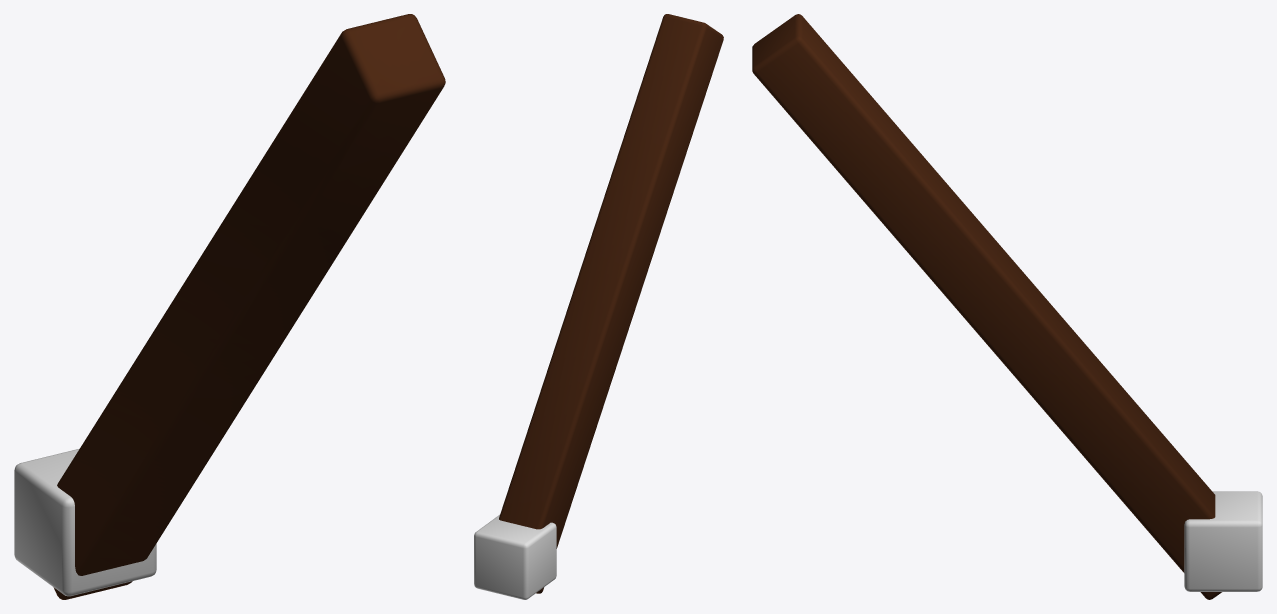
The model's file is roof-corner-beam.obj.
3 views of the same model, side by side, from view 1: azimuth 30°, elevation 25°; view 2: azimuth 150°, elevation 25°; view 3: azimuth 270°, elevation 25° (orthographic). The views are drawn at different scales.
Visible parts, largest first — view 1: roof-corner-beam; view 2: roof-corner-beam; view 3: roof-corner-beam.
Boxes of the visible parts, left/top/right/bottom form: roof-corner-beam: left=14, top=14, right=445, bottom=599; roof-corner-beam: left=474, top=14, right=723, bottom=599; roof-corner-beam: left=752, top=14, right=1262, bottom=599.
Size of the model in its own units: 0.2 by 1.58 by 1.3.
